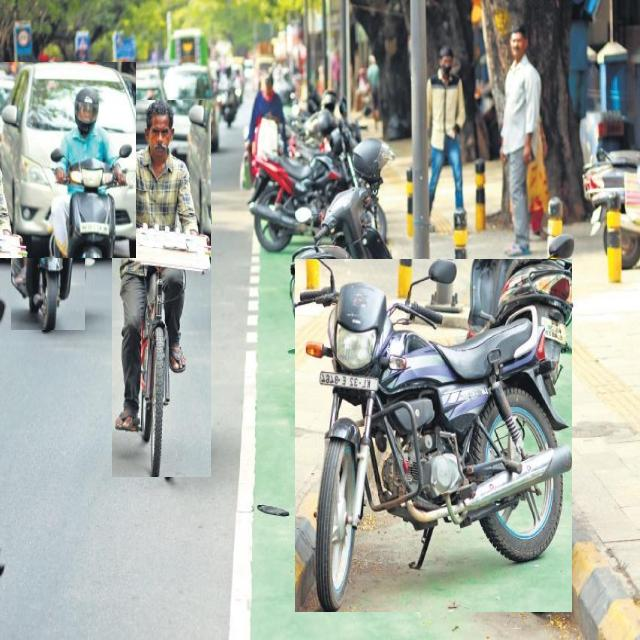bicycle: (112, 101, 211, 477)
car: (0, 62, 136, 258), (164, 64, 219, 151)
motorcycle: (295, 259, 572, 612), (290, 182, 399, 380), (11, 87, 85, 330), (250, 119, 356, 251)
